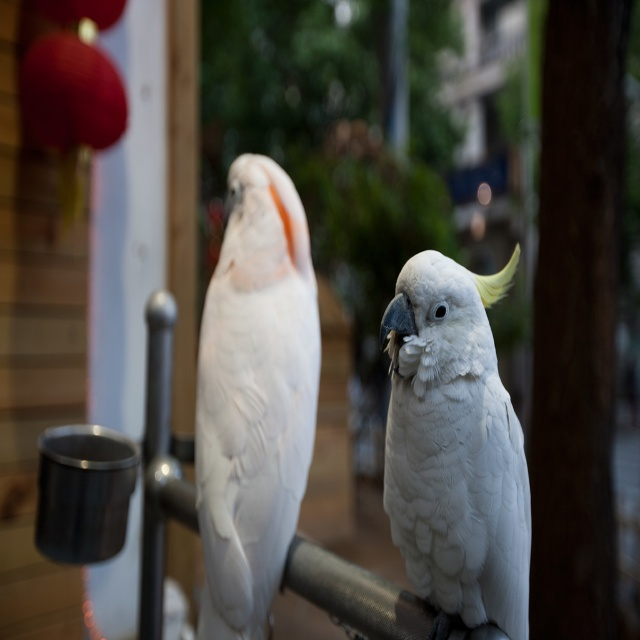Parrot: (195, 152, 321, 640), (379, 242, 532, 640)
